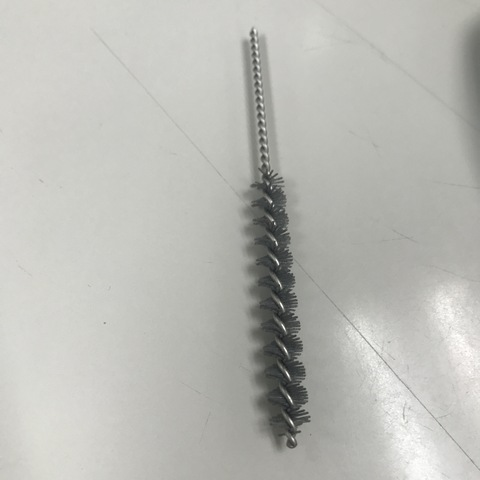Twist Brush-A: (236, 24, 317, 448)
